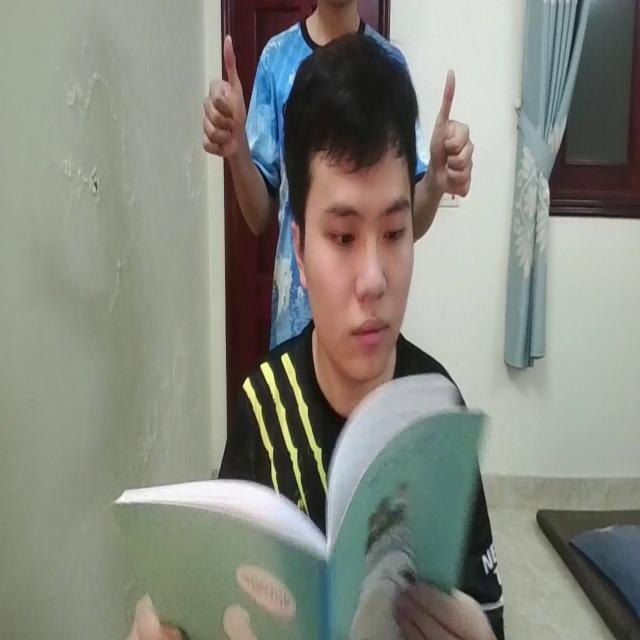book: (112, 388, 479, 640)
student: (218, 33, 504, 640)
